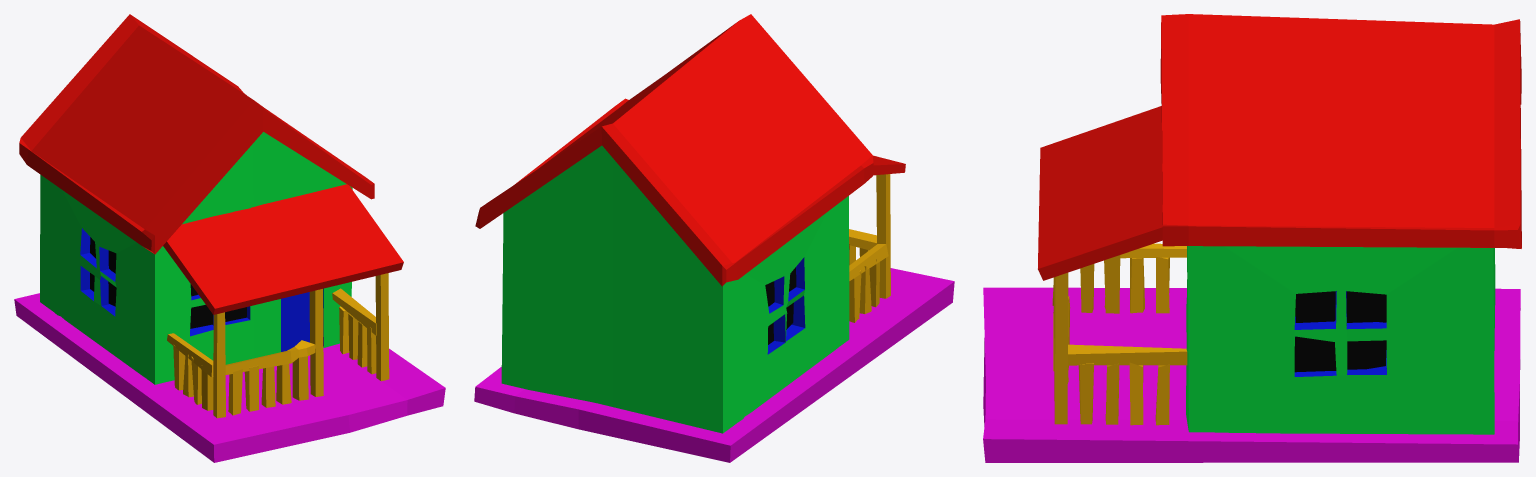
File: House01.fbx
The picture shows the model from 3 angles, left to right: view 1: azimuth 30°, elevation 25°; view 2: azimuth 150°, elevation 25°; view 3: azimuth 270°, elevation 25°; orthographic projection. The views are drawn at different scales.
Visible parts, largest first — view 1: Cube.010; view 2: Cube.010; view 3: Cube.010.
Part boxes in pixels (box(x1,y1,x2,y2)): Cube.010: box(14, 14, 445, 462); Cube.010: box(474, 14, 954, 462); Cube.010: box(983, 14, 1521, 462).
Size of the model in its own units: 1412 by 1645 by 2115.
